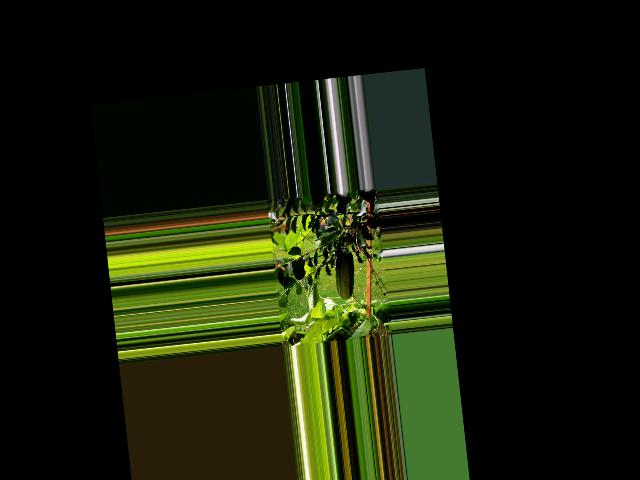cucumber: (332, 245, 358, 300)
